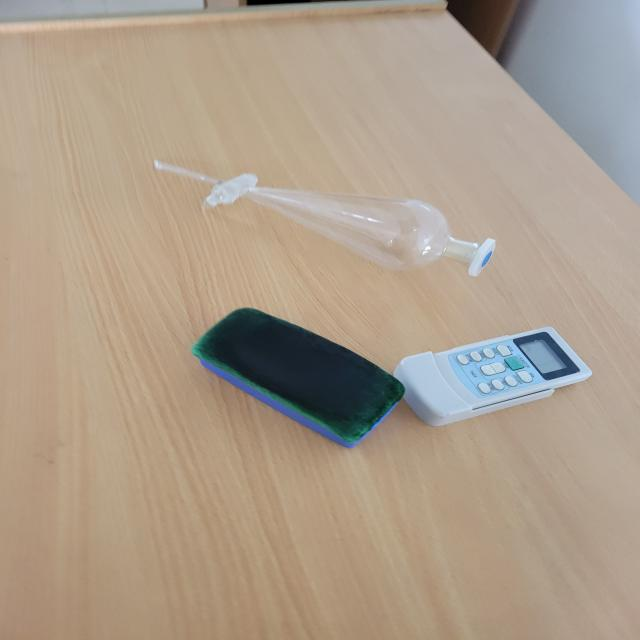Separating_Funnel: (134, 122, 524, 298)
